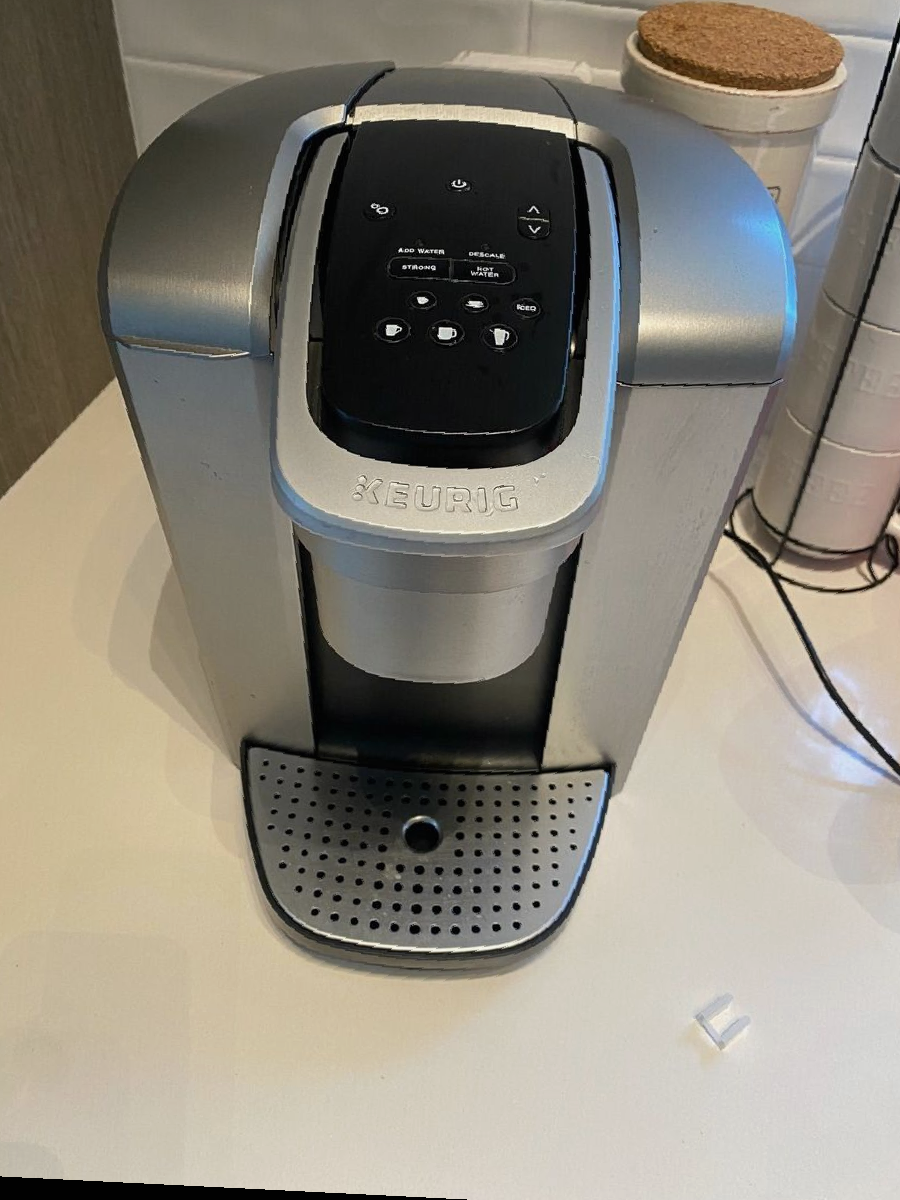10oz: (426, 318, 467, 349)
12oz: (479, 322, 520, 352)
4oz: (406, 287, 441, 311)
6oz: (457, 291, 492, 314)
8oz: (373, 315, 414, 346)
add_water: (385, 230, 452, 256)
descale: (453, 233, 520, 258)
hot: (452, 258, 519, 283)
iced: (508, 296, 544, 320)
power: (446, 172, 473, 196)
strong: (384, 255, 451, 281)
